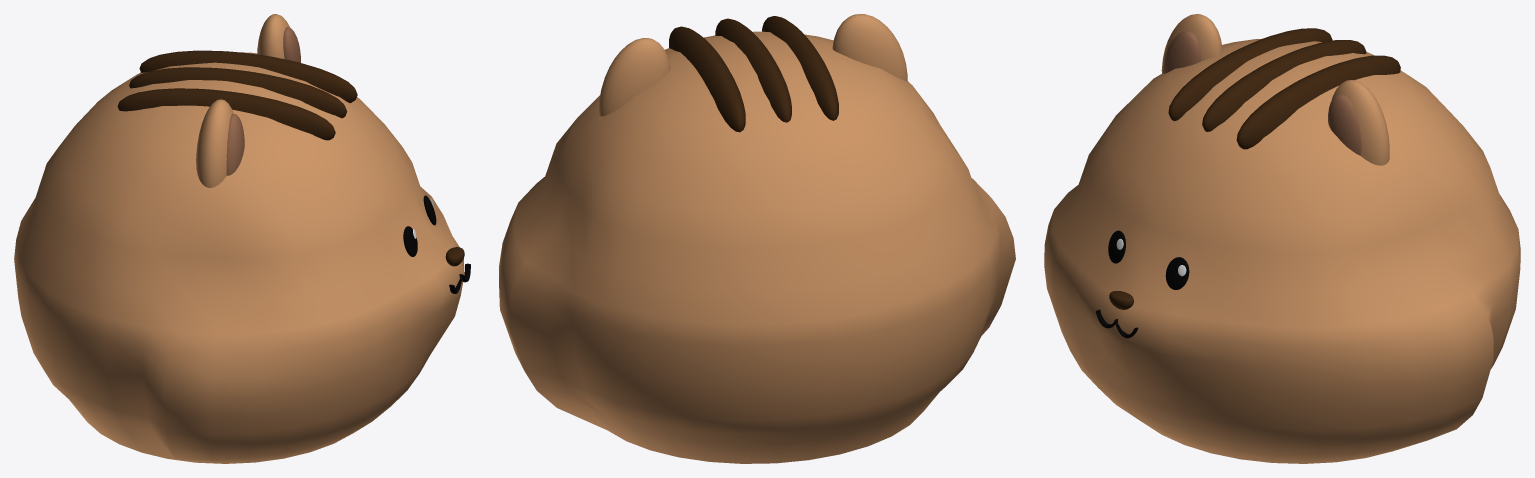
File: tori_finish.gltf
The picture shows the model from 3 angles, left to right: view 1: azimuth 30°, elevation 25°; view 2: azimuth 150°, elevation 25°; view 3: azimuth 270°, elevation 25°; orthographic projection. The views are drawn at different scales.
Visible parts, largest first — view 1: Sphere, Sphere.008, Sphere.002, Sphere.007, Sphere.005, Sphere.003, Sphere.009, Sphere.010; view 2: Sphere, Sphere.003, Sphere.002, Sphere.005, Sphere.007, Sphere.008; view 3: Sphere, Sphere.002, Sphere.007, Sphere.008, Sphere.003, Sphere.010, Sphere.005, Sphere.009, Sphere.001.
Boxes of the visible parts, x1,y1,x2,y2 form: Sphere: (14,52,464,463); Sphere.008: (117,88,335,140); Sphere.002: (139,50,357,103); Sphere.007: (129,67,347,118); Sphere.005: (196,99,233,187); Sphere.003: (257,14,290,59); Sphere.009: (226,114,244,175); Sphere.010: (283,27,300,62); Sphere: (499,31,1015,463); Sphere.003: (598,38,670,116); Sphere.002: (669,26,745,132); Sphere.005: (832,14,907,81); Sphere.007: (715,18,791,122); Sphere.008: (762,16,838,120); Sphere: (1044,38,1520,463); Sphere.002: (1236,55,1400,149); Sphere.007: (1202,40,1366,131); Sphere.008: (1168,28,1332,120); Sphere.003: (1331,80,1389,165); Sphere.010: (1328,94,1361,155); Sphere.005: (1161,14,1222,73); Sphere.009: (1163,31,1200,73); Sphere.001: (1165,257,1189,289).
Bounding box in the file's own units: 2.06 × 1.85 × 2.07.
